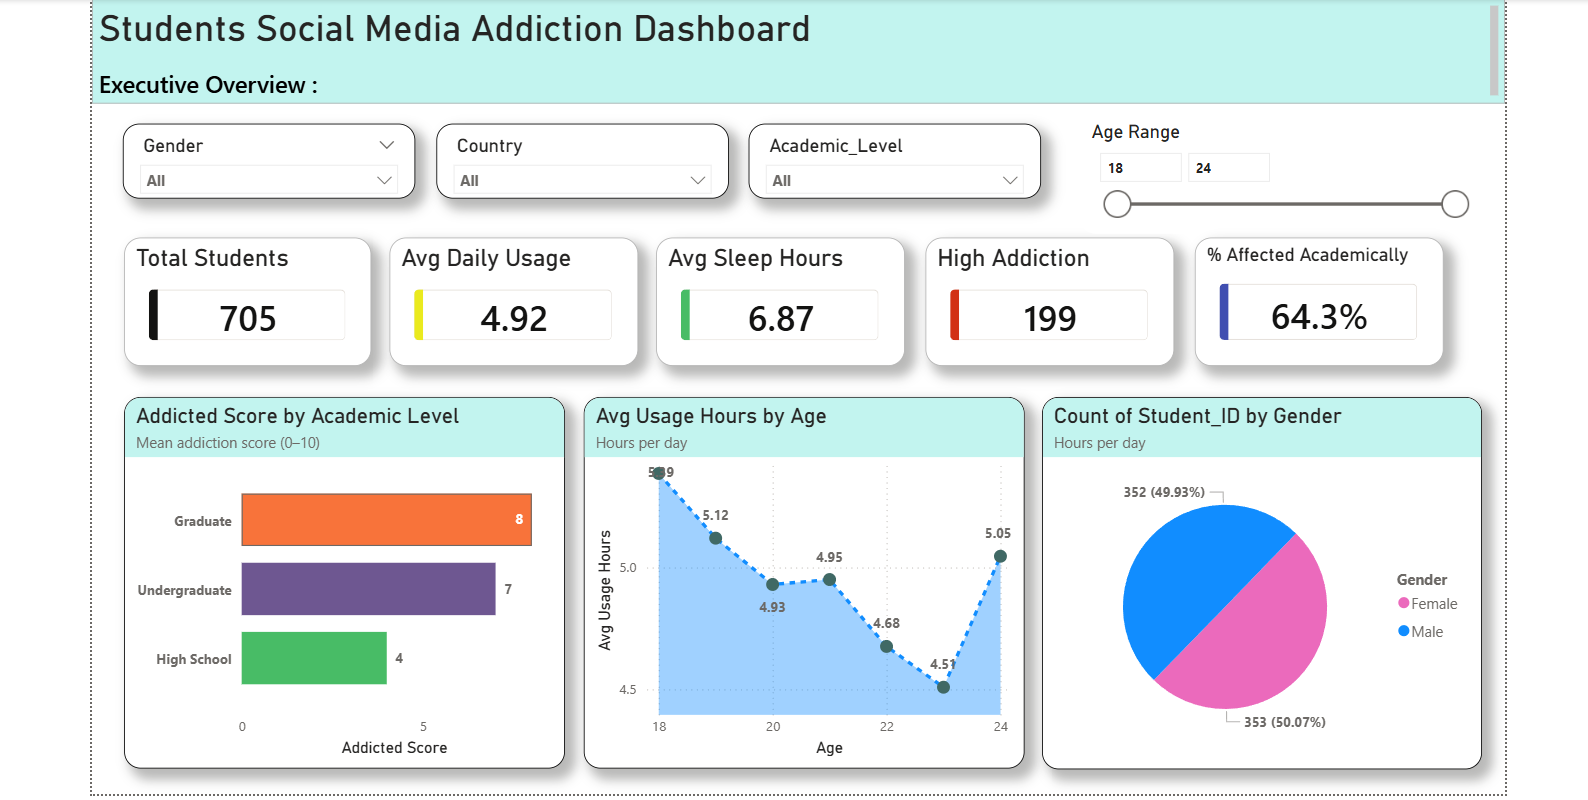

Layout of this report page (visuals, bound fields, positions):
{"tool":"powerbi","page":{"name":"Executive Overview","canvas":[1280,720],"ordinal":0},"visuals":[{"type":"textbox","box":[0,0,1280,94.7],"z":0},{"type":"cardVisual","title":"Total Students","fields":{"Data":["Student Details.Total Students"]},"box":[29.6,216.5,224,116.6],"z":1000},{"type":"cardVisual","title":"Avg Daily Usage","fields":{"Data":["Student Details.Avg Usage Hours"]},"box":[269.5,216.5,225.3,116.6],"z":2000},{"type":"cardVisual","title":"Avg Sleep Hours","fields":{"Data":["Student Details.Avg Sleep Hours"]},"box":[510.8,216.5,225.3,116.6],"z":3000},{"type":"cardVisual","title":"High Addiction","fields":{"Data":["Student Details.Addicted Student Count"]},"box":[755.2,216.5,225.3,116.6],"z":4000},{"type":"barChart","title":"Addicted Score by Academic Level","fields":{"Category":["Student Details.Academic_Level"],"Y":["Count(Student Details.Addicted_Score)"]},"box":[29.2,360.5,399,336.7],"z":5000},{"type":"lineChart","fields":{"Y":["Student Details.Avg Usage Hours"],"Category":["Student Details.Age"]},"box":[445.4,360.5,399,336.7],"z":6000},{"type":"slicer","fields":{"Values":["Student Details.Gender"]},"box":[27.4,112.7,265.1,67.6],"z":7000},{"type":"slicer","fields":{"Values":["Student Details.Country"]},"box":[312.4,112.7,265.1,67.6],"z":8000},{"type":"slicer","fields":{"Values":["Student Details.Academic_Level"]},"box":[594.7,112.7,265.1,67.6],"z":9000},{"type":"slicer","title":"Age Range","fields":{"Values":["Student Details.Age"]},"box":[894.8,104.5,367,108.5],"z":10000},{"type":"cardVisual","title":"% Affected Academically","fields":{"Data":["Student Details.% Affected Academically"]},"box":[999,216.5,225.3,116.6],"z":11000},{"type":"pieChart","fields":{"Category":["Student Details.Gender"],"Y":["CountNonNull(Student Details.Student_ID)"]},"box":[860,360,398.6,337.1],"z":12000}]}

Visuals, with their boxes on the page's 1280x720 design canvas (x1, y1, x2, y2). These are canvas units, not pixel positions in the 1588x800 screenshot, which may show the page scaled, cropped or inside an application window:
textbox: bbox=(0, 0, 1280, 95)
"Total Students" cardVisual: bbox=(30, 216, 254, 333)
"Avg Daily Usage" cardVisual: bbox=(270, 216, 495, 333)
"Avg Sleep Hours" cardVisual: bbox=(511, 216, 736, 333)
"High Addiction" cardVisual: bbox=(755, 216, 980, 333)
"Addicted Score by Academic Level" barChart: bbox=(29, 360, 428, 697)
lineChart - Student Details.Avg Usage Hours x Student Details.Age: bbox=(445, 360, 844, 697)
slicer - Student Details.Gender: bbox=(27, 113, 292, 180)
slicer - Student Details.Country: bbox=(312, 113, 578, 180)
slicer - Student Details.Academic_Level: bbox=(595, 113, 860, 180)
"Age Range" slicer: bbox=(895, 104, 1262, 213)
"% Affected Academically" cardVisual: bbox=(999, 216, 1224, 333)
pieChart - Student Details.Gender x CountNonNull(Student Details.Student_ID): bbox=(860, 360, 1259, 697)
